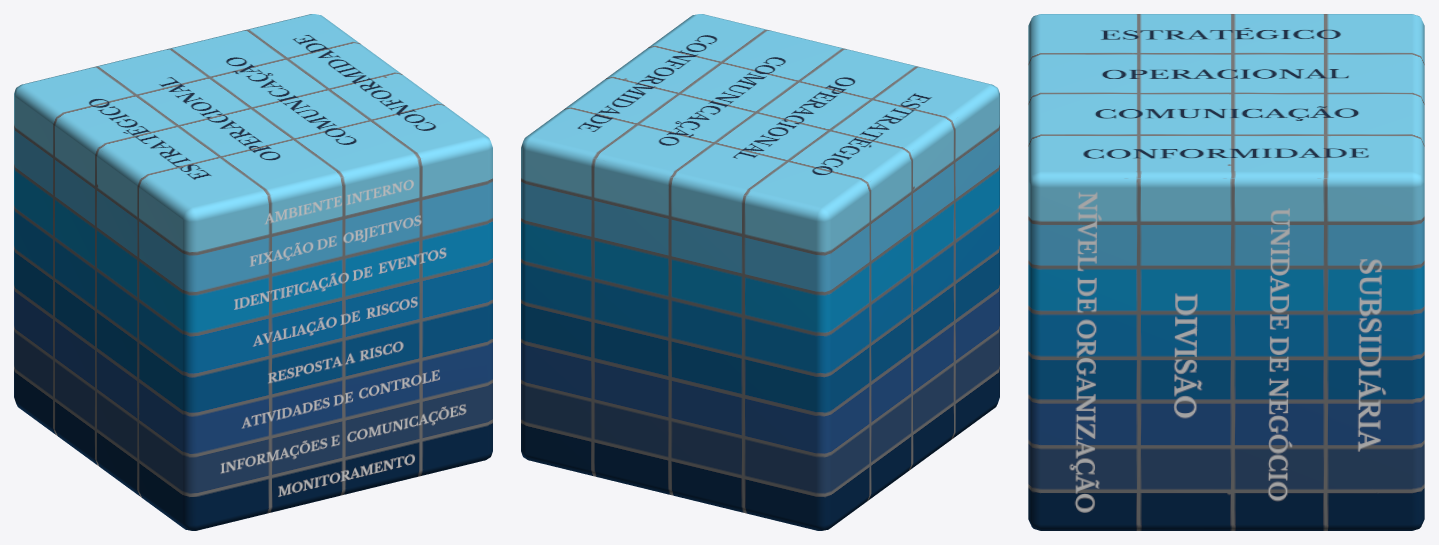
The model's file is cubo.glb.
3 renders of one model, left to right at view 1: azimuth 30°, elevation 25°; view 2: azimuth 150°, elevation 25°; view 3: azimuth 270°, elevation 25°, orthographic. The views are drawn at different scales.
Parts seen in each view (by area): view 1: Cube; view 2: Cube; view 3: Cube.
Part boxes in pixels (x1,y1,x2,y2): Cube: (14, 14, 492, 530); Cube: (521, 14, 999, 530); Cube: (1028, 14, 1424, 530).
Size of the model in its own units: 2 by 2 by 2.
1 material, 1 textured.
